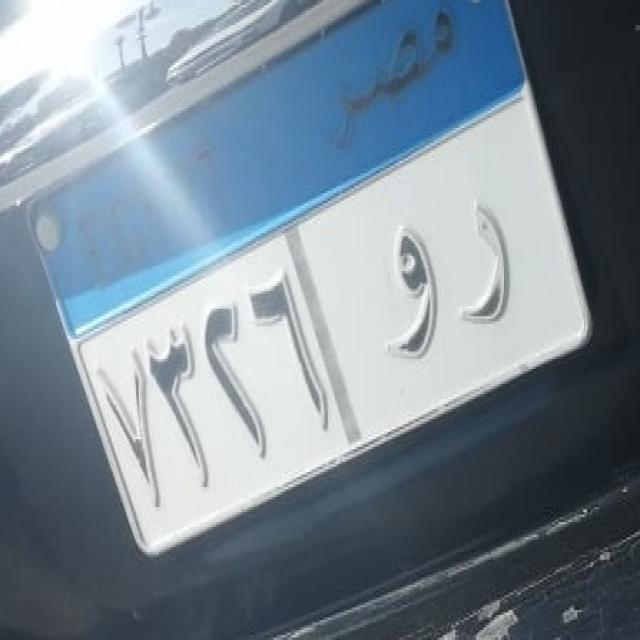2: (194, 291, 276, 464)
3: (137, 314, 222, 492)
6: (240, 266, 338, 439)
7: (86, 350, 174, 512)
R: (454, 202, 519, 334)
Wow: (368, 216, 446, 366)
